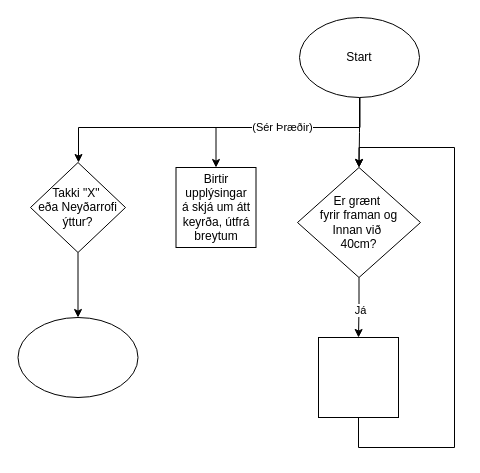
Image size: 480x473. Some labels were removed from this diagram. The centre of each missing label's shape, as x and y in pixels:
"End" belongs at (77,357).
"Keyrir í áttina að græna hlutnum" belongs at (358,377).
